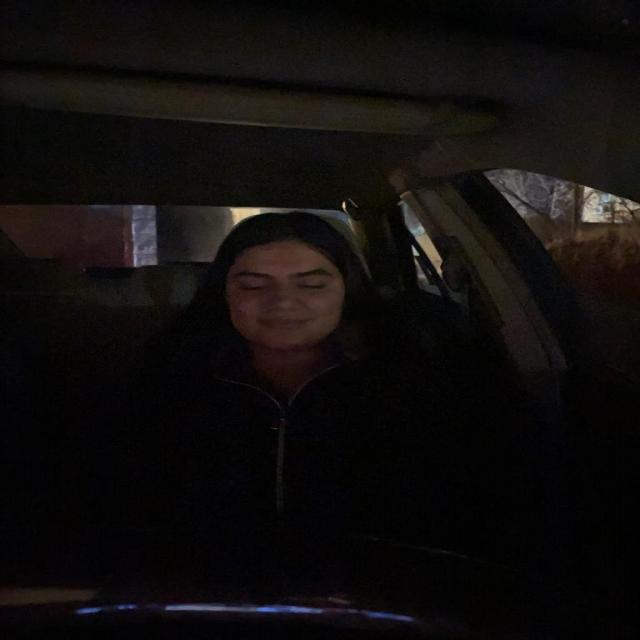drowsy: (209, 216, 370, 353)
